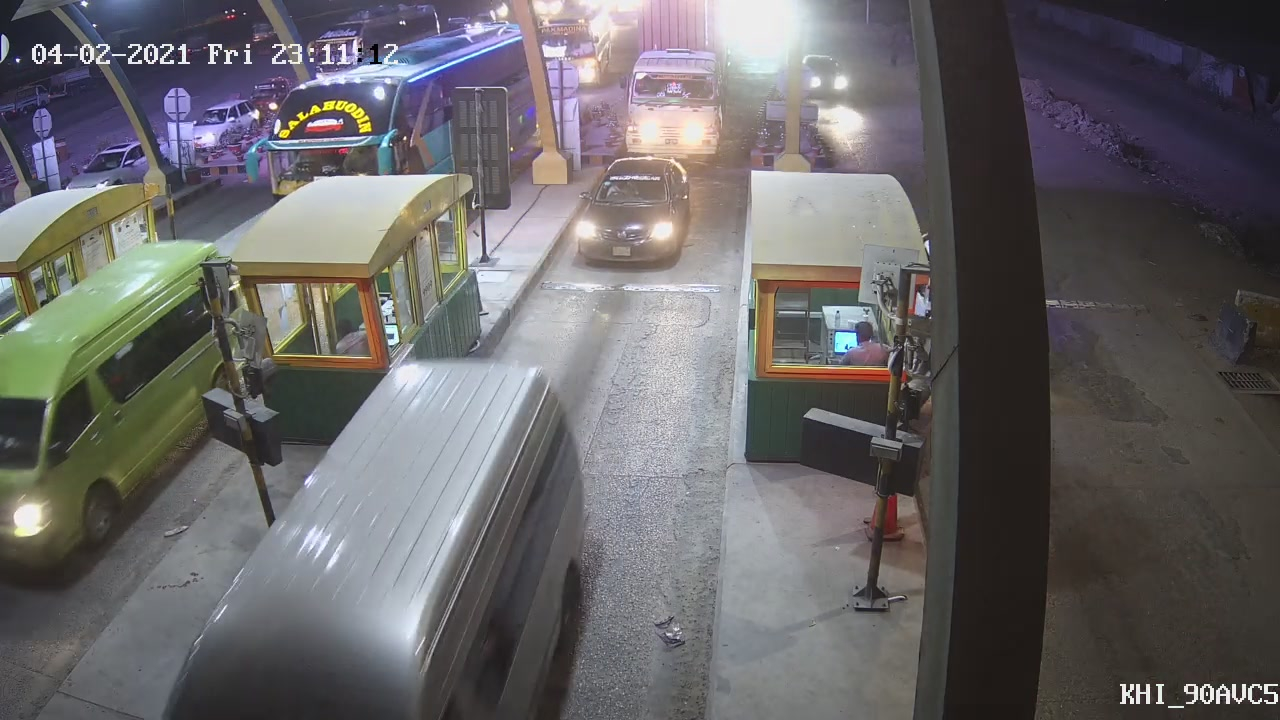F1: (568, 152, 697, 281)
